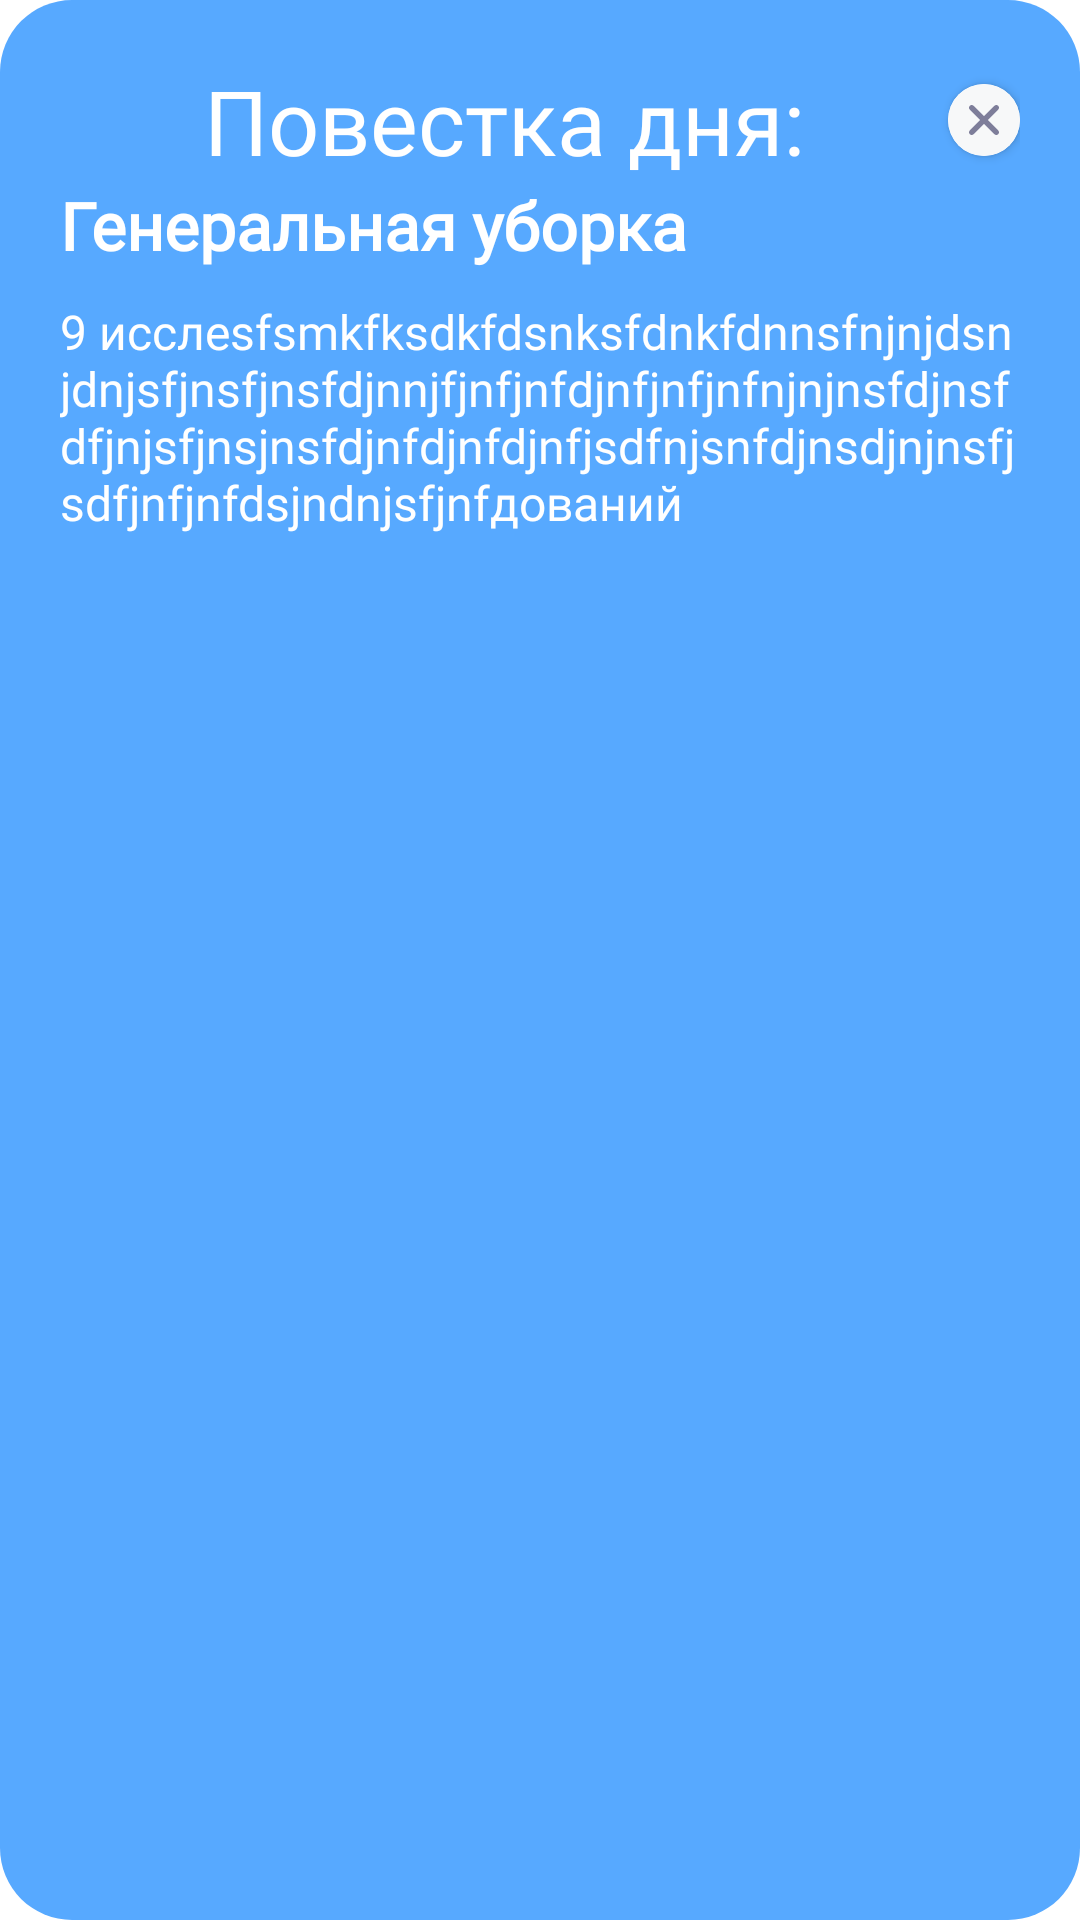

Icons on this 1080×1920 Android screen, each with its box as (x1, y1, x2, y2):
cross: (948, 84, 1020, 156)
